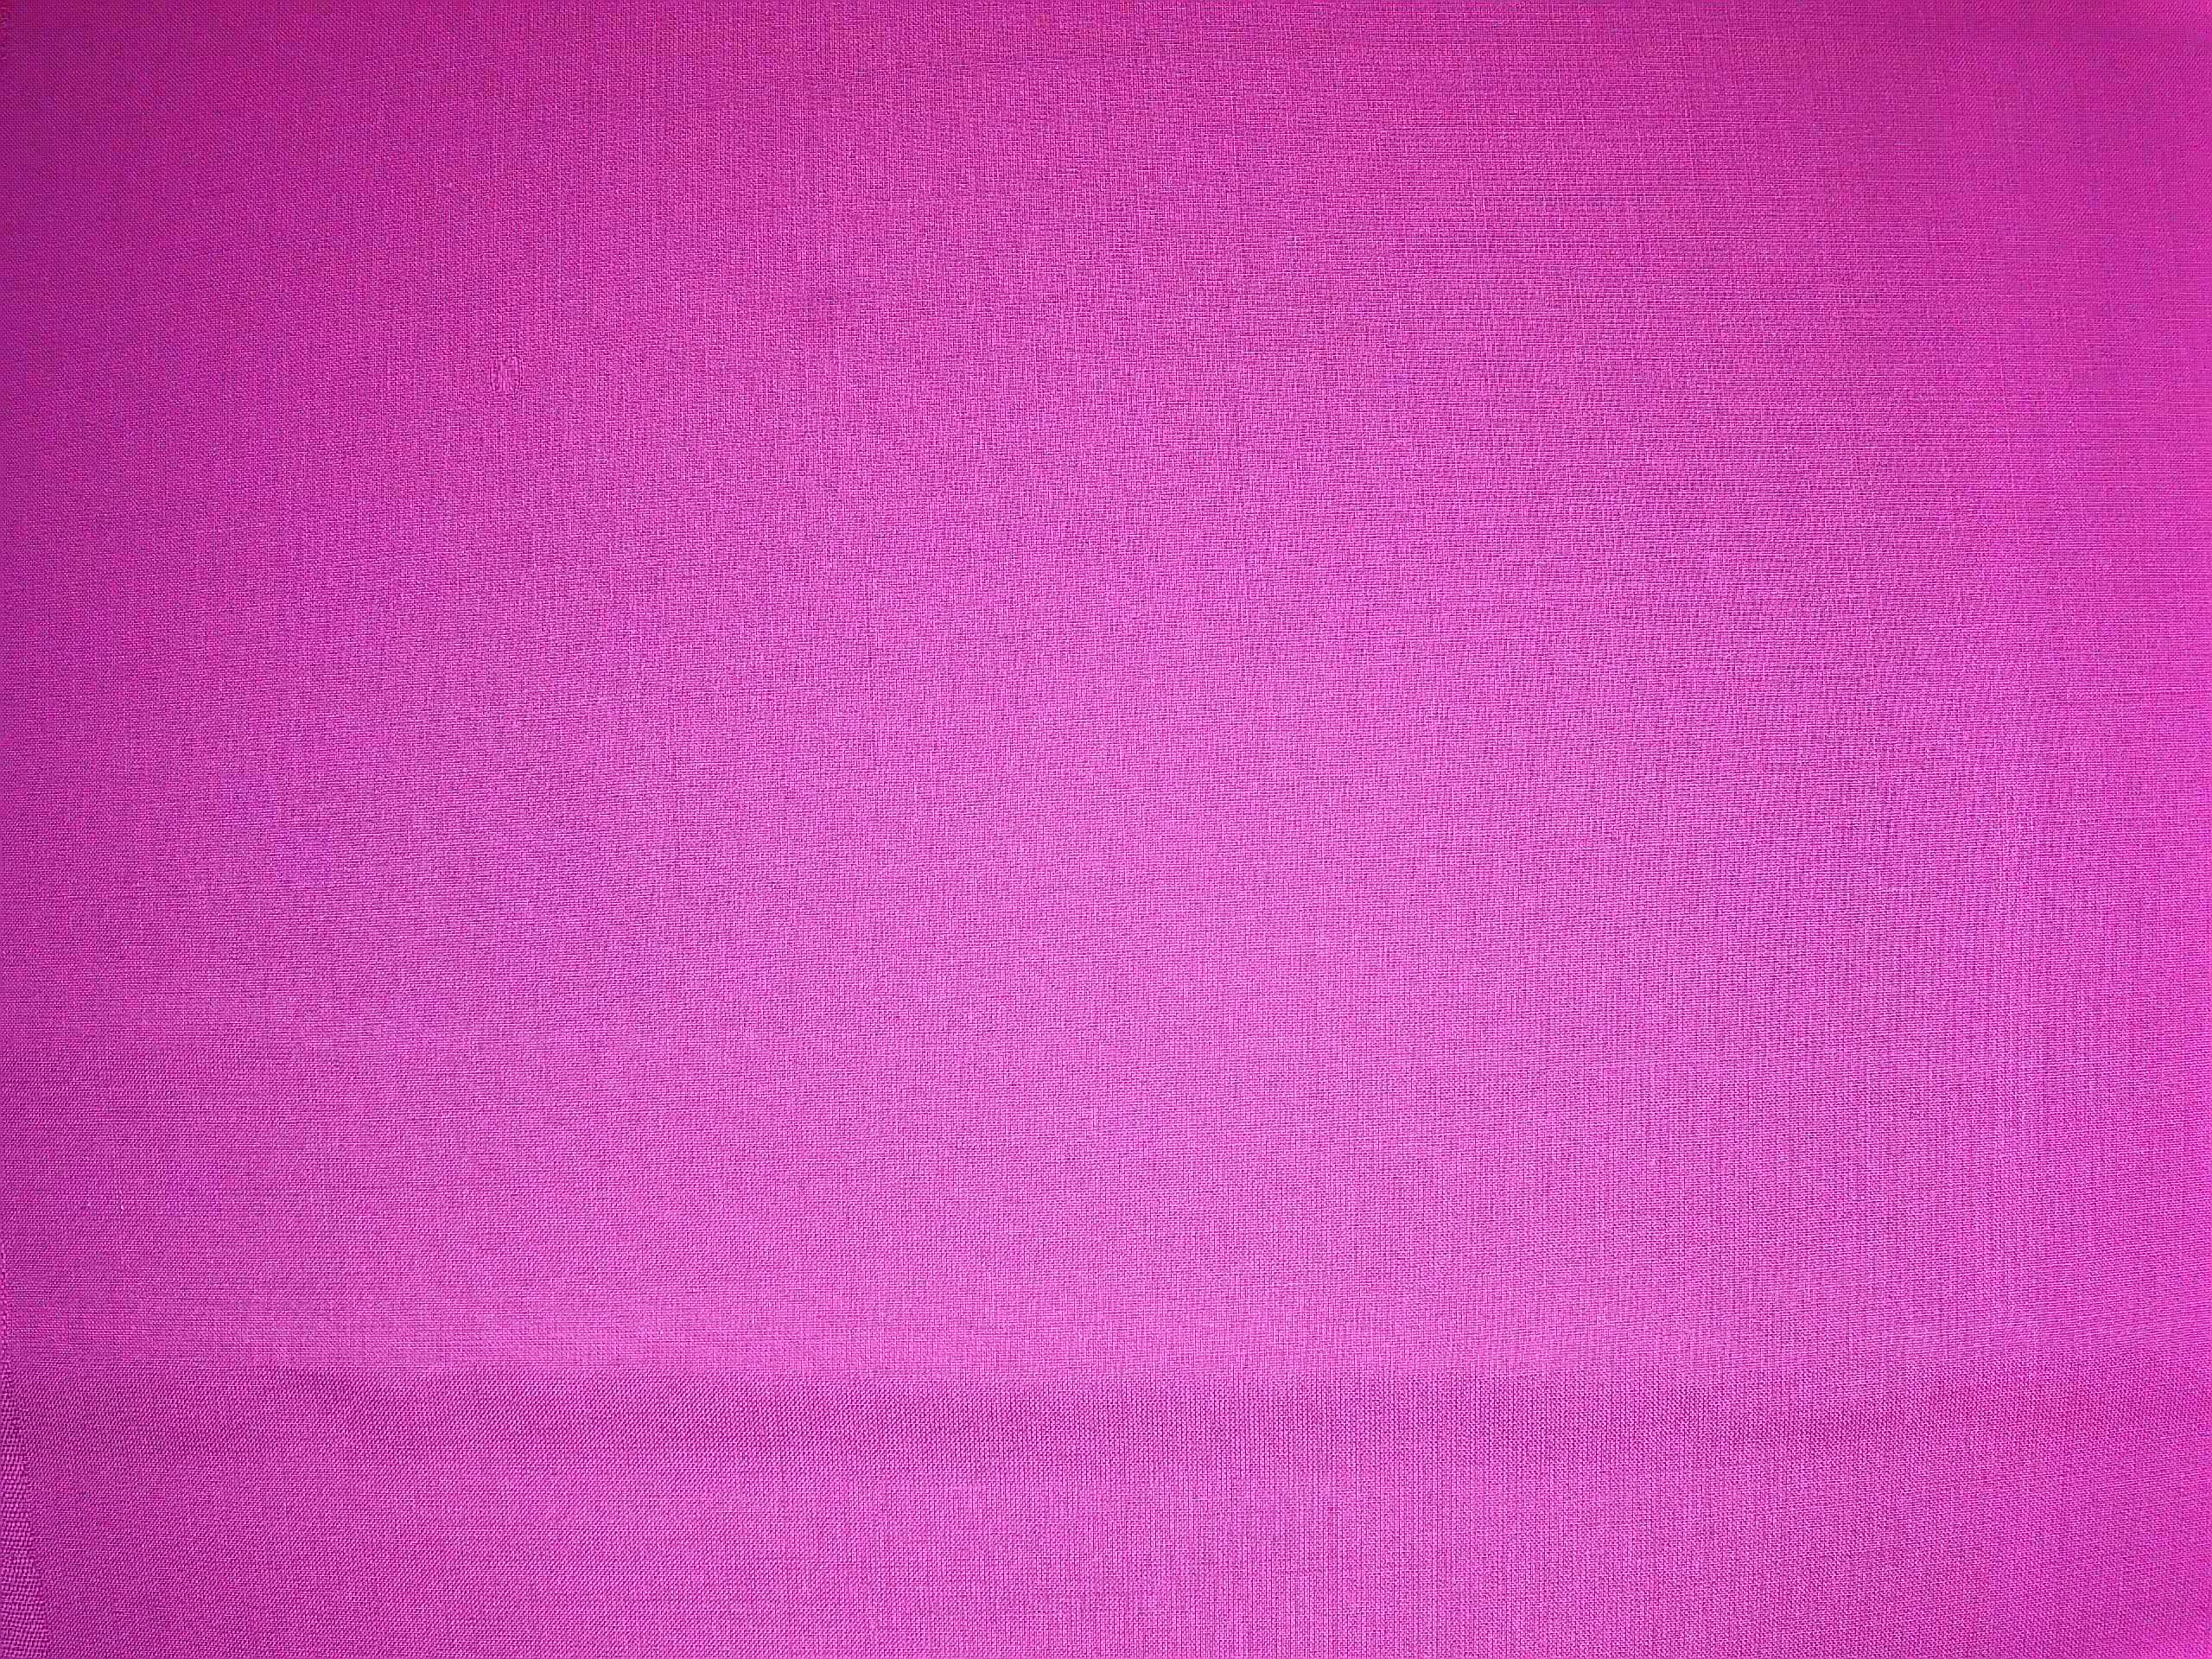rubbing-hole: (463, 321, 549, 425)
